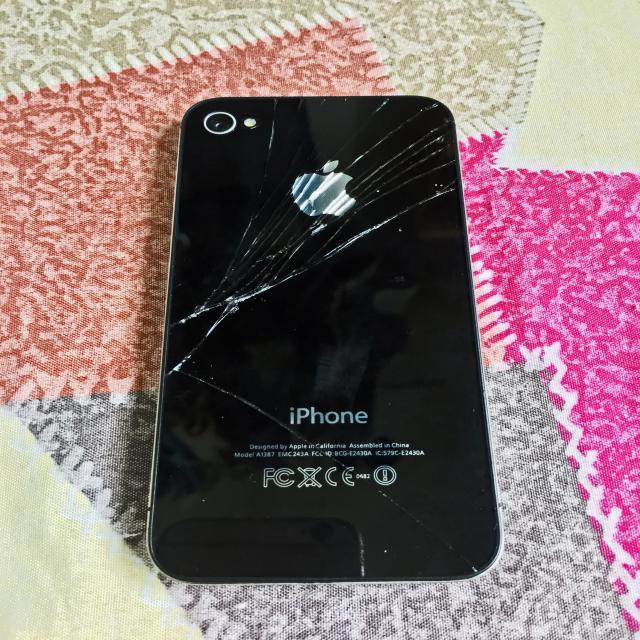Crack: (151, 95, 465, 383)
